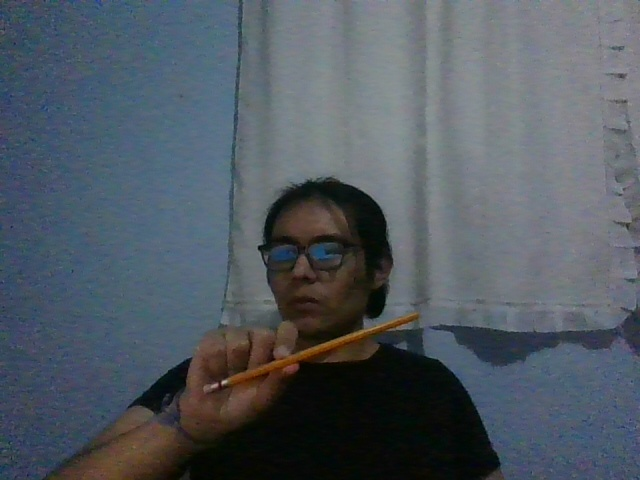lapiz: (202, 312, 420, 395)
